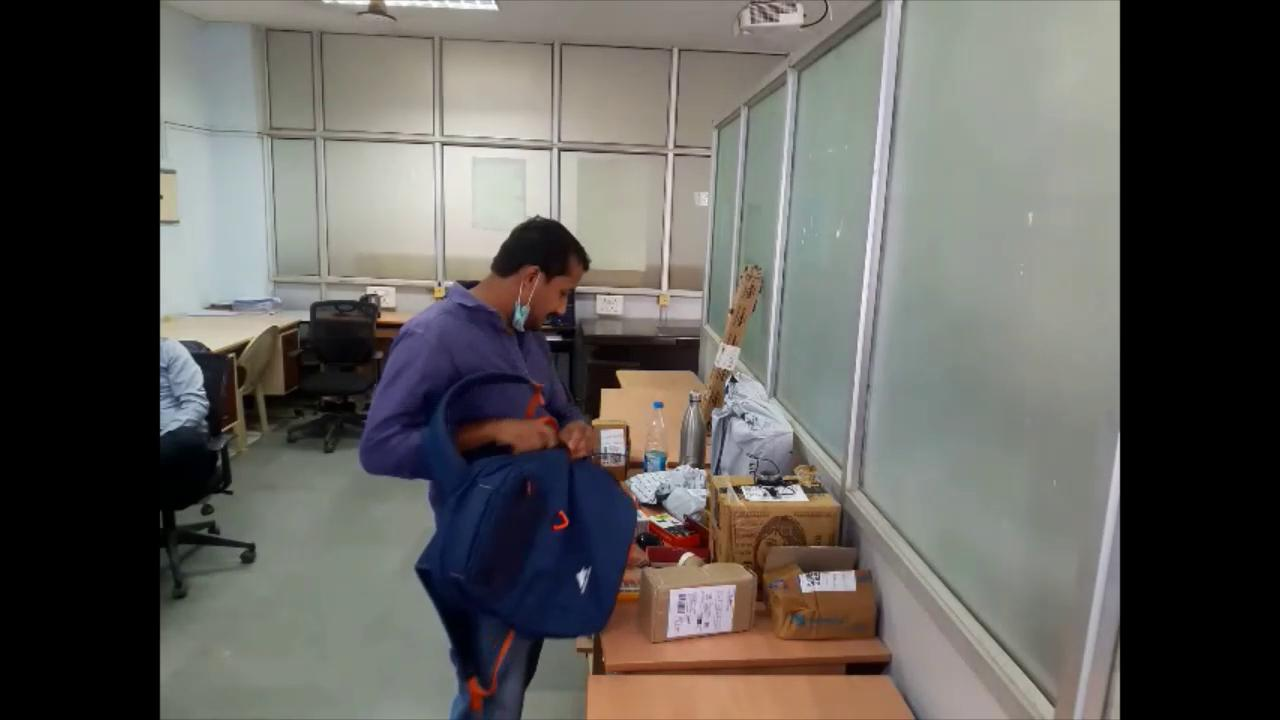Normal: (357, 214, 619, 720)
